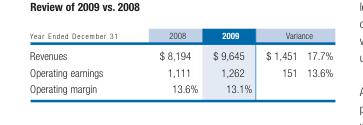table: (29, 29, 332, 94)
table column: (29, 29, 137, 94), (137, 29, 204, 94), (204, 29, 258, 94), (258, 29, 301, 94), (301, 29, 332, 94)
table column header: (29, 29, 332, 63)
table row: (29, 44, 332, 63), (29, 63, 332, 80), (29, 29, 332, 44), (29, 80, 332, 94)
table spanning cell: (29, 29, 137, 63), (137, 29, 204, 63), (204, 29, 258, 63), (258, 29, 332, 44)
